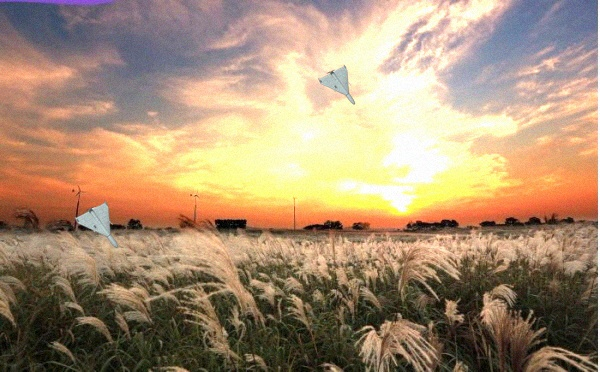shahed: (74, 201, 118, 248), (317, 63, 356, 104)
